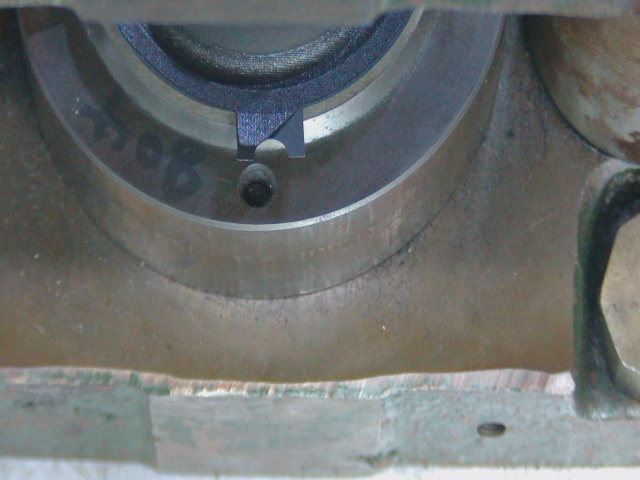OK: (237, 98, 312, 169)
